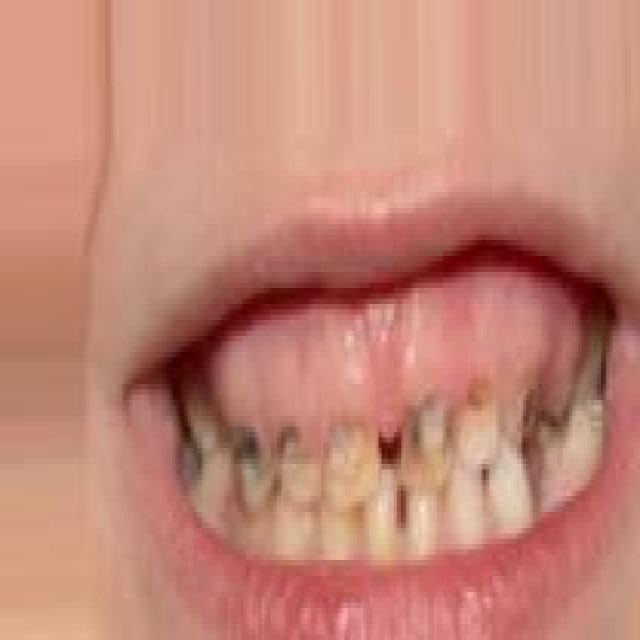caries: (396, 378, 455, 492), (320, 406, 385, 509), (229, 412, 281, 524), (274, 414, 328, 518), (458, 367, 508, 475), (515, 372, 555, 456)
